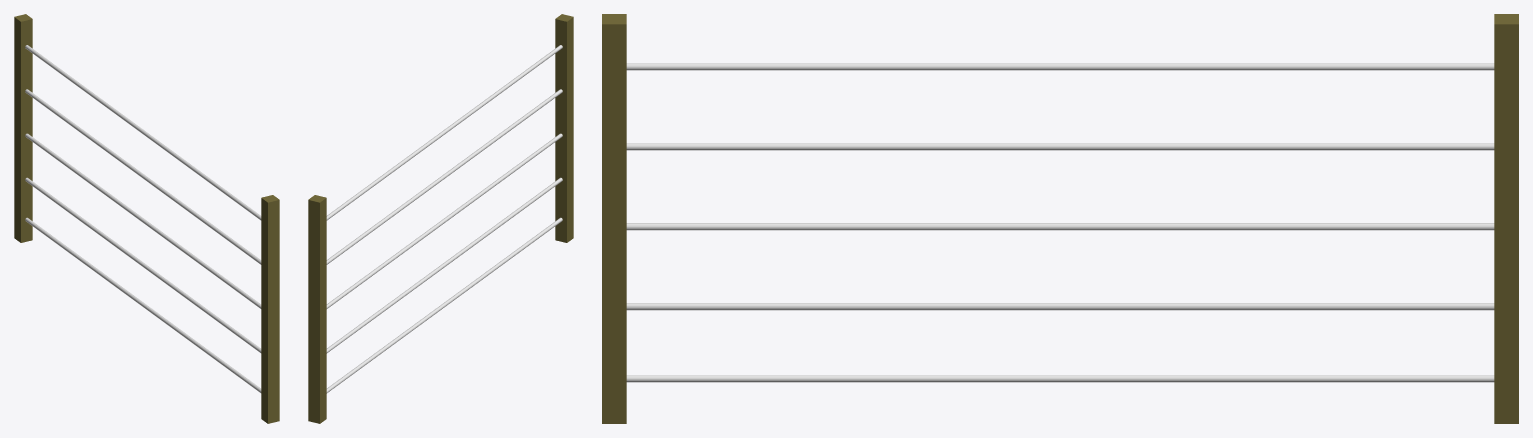
File: LaserFence1.fbx
3 renders of one model, left to right at view 1: azimuth 30°, elevation 25°; view 2: azimuth 150°, elevation 25°; view 3: azimuth 270°, elevation 25°, orthographic. The views are drawn at different scales.
Parts seen in each view (by area): view 1: Fence Wall 1, Fence Wall 1.001, Cylinder.002, Cylinder.003, Cylinder, Cylinder.001, Cylinder.004; view 2: Fence Wall 1.001, Fence Wall 1, Cylinder.002, Cylinder.003, Cylinder, Cylinder.001, Cylinder.004; view 3: Fence Wall 1, Fence Wall 1.001, Cylinder, Cylinder.001, Cylinder.002, Cylinder.004, Cylinder.003.
Part boxes in pixels (x1,y1,x2,y2): Fence Wall 1: (261,195,279,423); Fence Wall 1.001: (14,14,32,242); Cylinder.002: (25,133,261,308); Cylinder.003: (25,89,261,264); Cylinder: (25,217,261,393); Cylinder.001: (25,177,261,353); Cylinder.004: (25,45,261,220); Fence Wall 1.001: (308,195,326,423); Fence Wall 1: (555,14,573,242); Cylinder.002: (326,133,562,308); Cylinder.003: (326,89,562,264); Cylinder: (326,217,562,393); Cylinder.001: (326,177,562,353); Cylinder.004: (326,45,562,220); Fence Wall 1: (602,14,626,423); Fence Wall 1.001: (1494,14,1518,423); Cylinder: (626,375,1494,382); Cylinder.001: (626,303,1494,310); Cylinder.002: (626,223,1494,230); Cylinder.004: (626,63,1494,70); Cylinder.003: (626,143,1494,150).
Bounding box in the file's own units: 27.9 × 500 × 1040.
